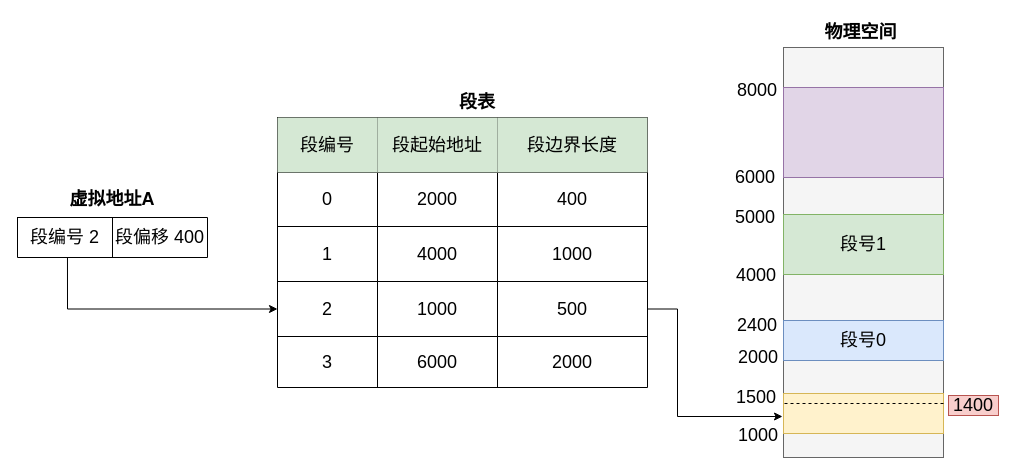
Image size: 1016x475. Some labels were removed from this diagram. The box of each missing label's shape, as (x1, y1, x2, y2) in pixels:
段号2: (782, 392, 944, 434)
段号3: (782, 86, 944, 178)
